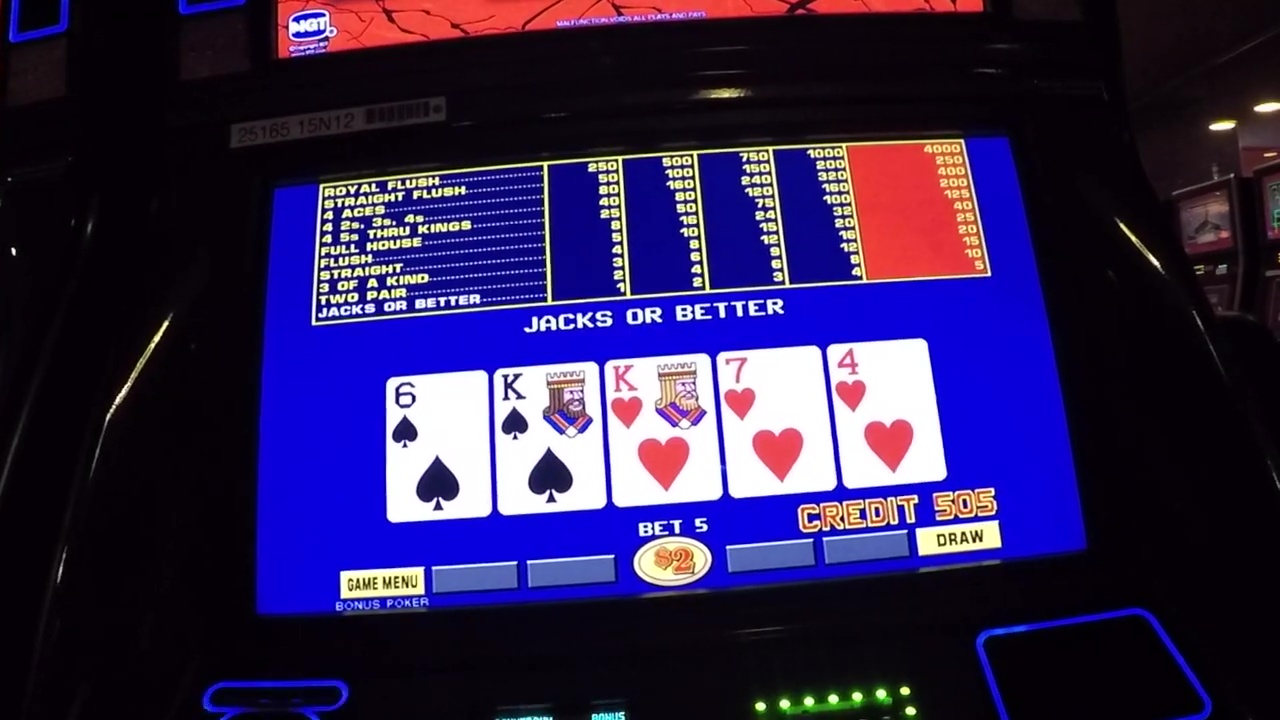H4: (833, 347, 929, 417)
H7: (724, 354, 827, 423)
HK: (609, 360, 706, 435)
S6: (390, 380, 486, 447)
SK: (498, 371, 597, 446)
